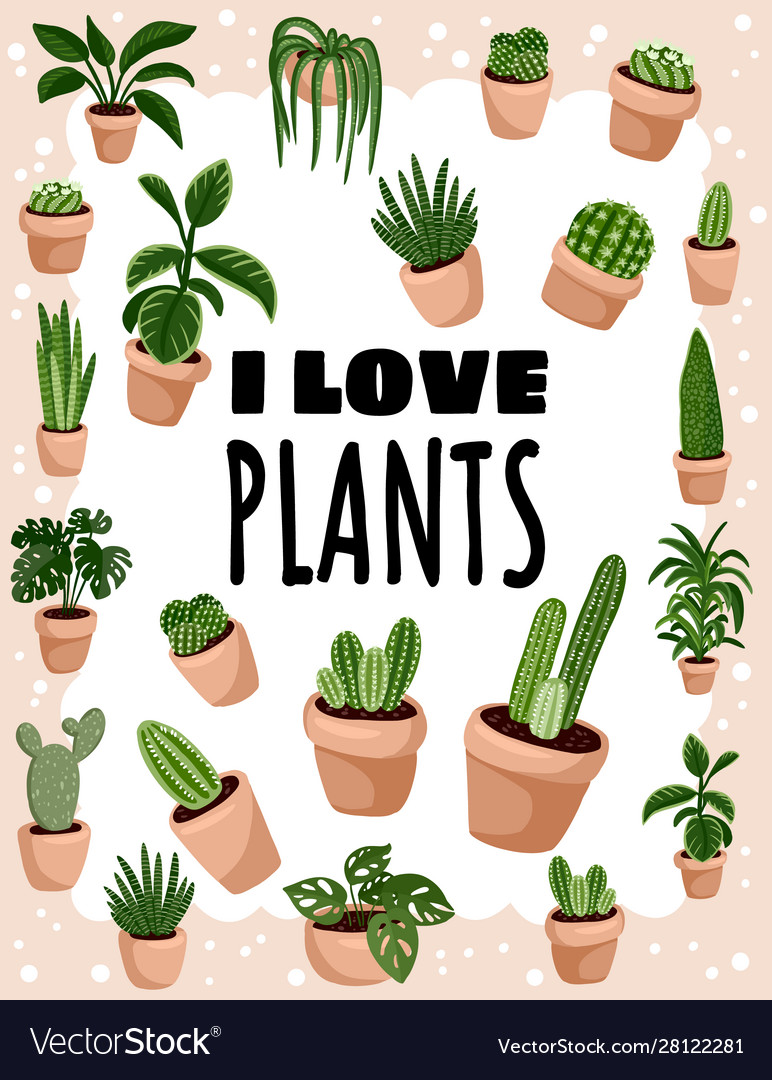plant: (463, 553, 636, 856), (115, 142, 230, 431), (300, 611, 438, 824), (24, 10, 204, 171), (130, 718, 287, 902), (281, 838, 461, 993), (6, 502, 133, 682), (366, 148, 490, 330), (266, 13, 393, 184), (643, 513, 756, 701), (9, 704, 110, 898), (535, 191, 661, 338), (641, 733, 741, 905), (107, 836, 200, 993), (604, 35, 707, 170), (160, 590, 264, 713), (538, 855, 633, 988), (666, 324, 735, 507), (32, 296, 101, 478), (480, 19, 560, 145), (681, 179, 744, 316), (15, 178, 98, 278)
